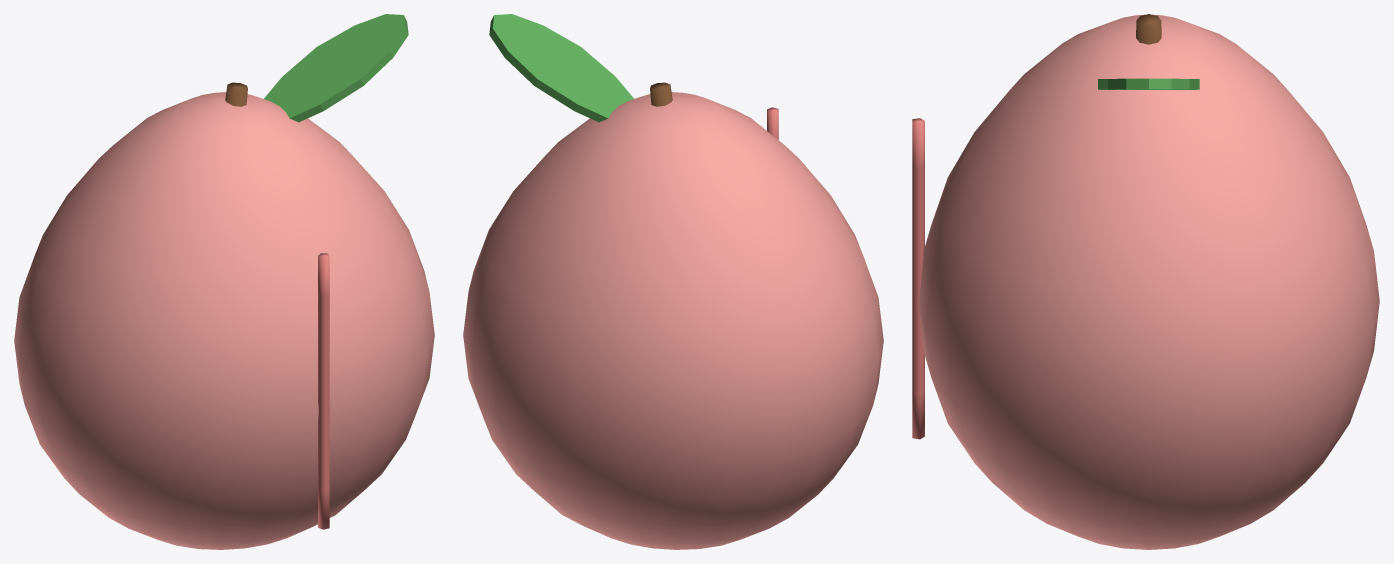
The model's file is fruit-peach.glb.
3 renders of one model, left to right at view 1: azimuth 30°, elevation 25°; view 2: azimuth 150°, elevation 25°; view 3: azimuth 270°, elevation 25°, orthographic. The views are drawn at different scales.
Parts seen in each view (by area): view 1: fruit; view 2: fruit; view 3: fruit.
Boxes of the visible parts, x1,y1,x2,y2 form: fruit: [14, 14, 434, 549]; fruit: [463, 14, 883, 549]; fruit: [912, 14, 1379, 549].
Size of the model in its own units: 0.28 by 0.3414 by 0.2632.
